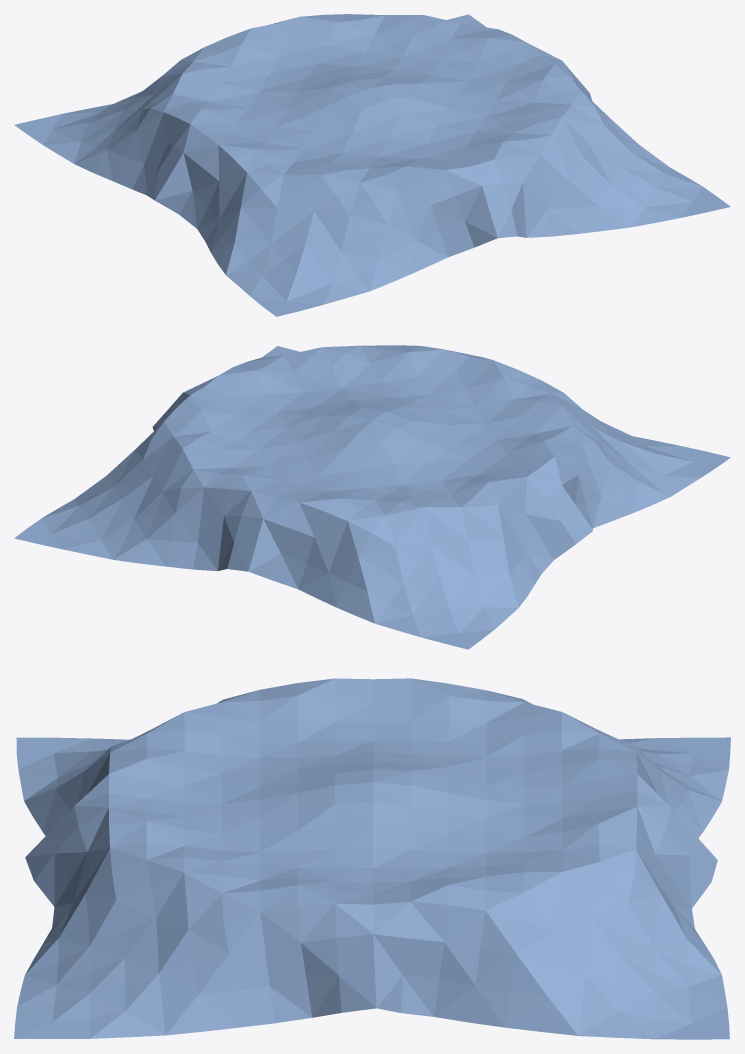
The model's file is level_0.glb.
3 renders of one model, top to bottom at view 1: azimuth 30°, elevation 25°; view 2: azimuth 150°, elevation 25°; view 3: azimuth 270°, elevation 25°, orthographic. The views are drawn at different scales.
Visible parts, largest first — view 1: world; view 2: world; view 3: world.
Part boxes in pixels (x1,y1,x2,y2): world: (14, 14, 730, 316); world: (14, 345, 730, 649); world: (14, 678, 730, 1039).
Bounding box in the file's own units: 0.6048 × 0.099 × 0.6066.
